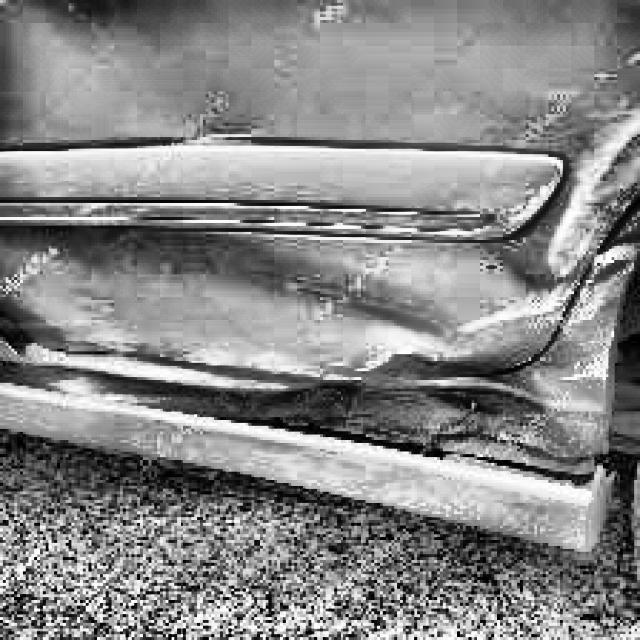door_dent: (16, 136, 612, 496)
door_scratch: (356, 336, 564, 438)
